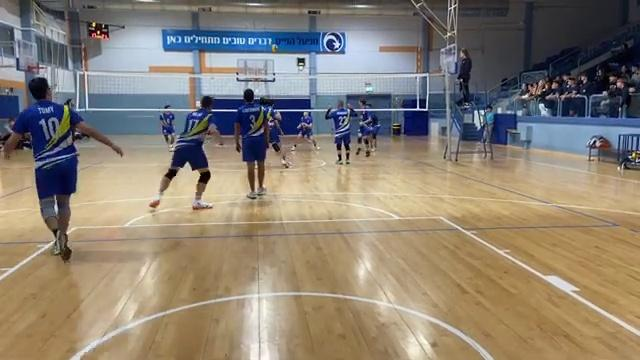ball: (268, 43, 281, 55)
